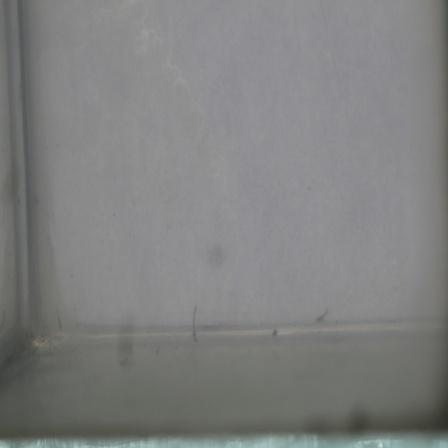Jentik-Nyamuk: (188, 300, 201, 343)
